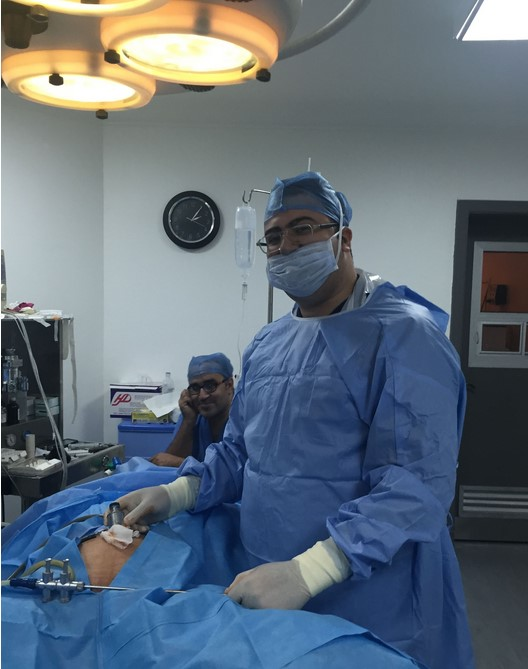face_with_mask: (251, 176, 353, 302)
